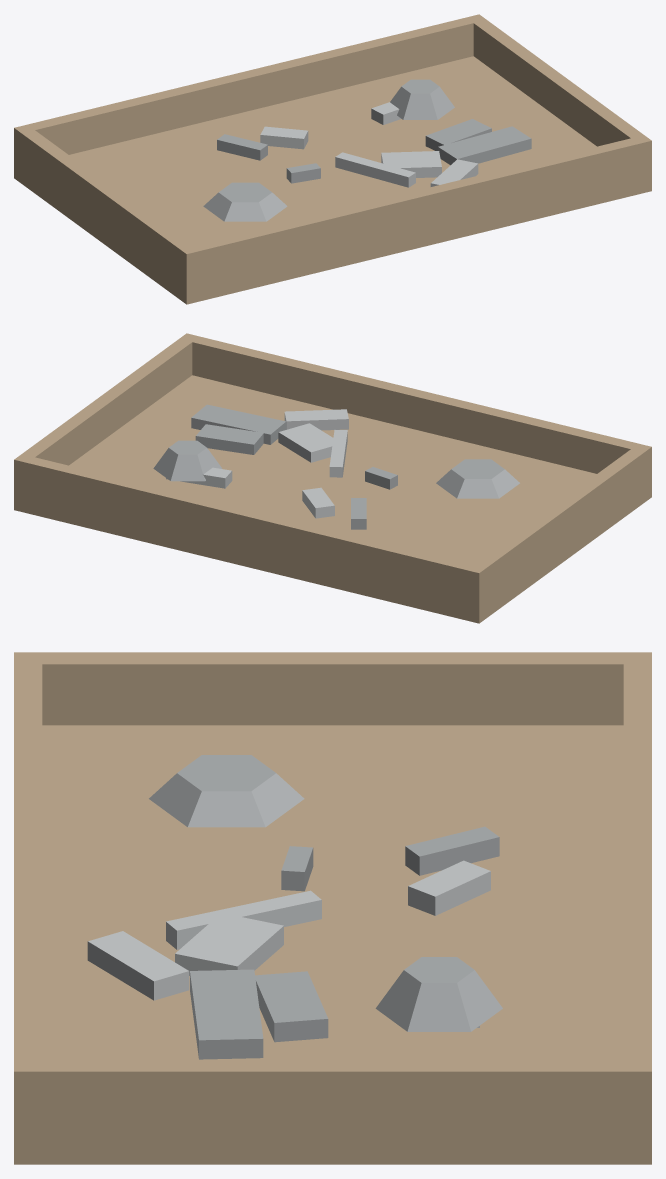
Rendered from prop-scrap-pewter-tray.fbx.
3 views of the same model, one above another, from view 1: azimuth 30°, elevation 25°; view 2: azimuth 150°, elevation 25°; view 3: azimuth 270°, elevation 25° (orthographic). The views are drawn at different scales.
Visible parts, largest first — view 1: prop-scrap-pewter-tray; view 2: prop-scrap-pewter-tray; view 3: prop-scrap-pewter-tray.
Part boxes in pixels (bbox=[...]): prop-scrap-pewter-tray: bbox=[14, 14, 651, 304]; prop-scrap-pewter-tray: bbox=[14, 333, 651, 623]; prop-scrap-pewter-tray: bbox=[14, 652, 651, 1164].
Size of the model in its own units: 28 by 2.9 by 18.
